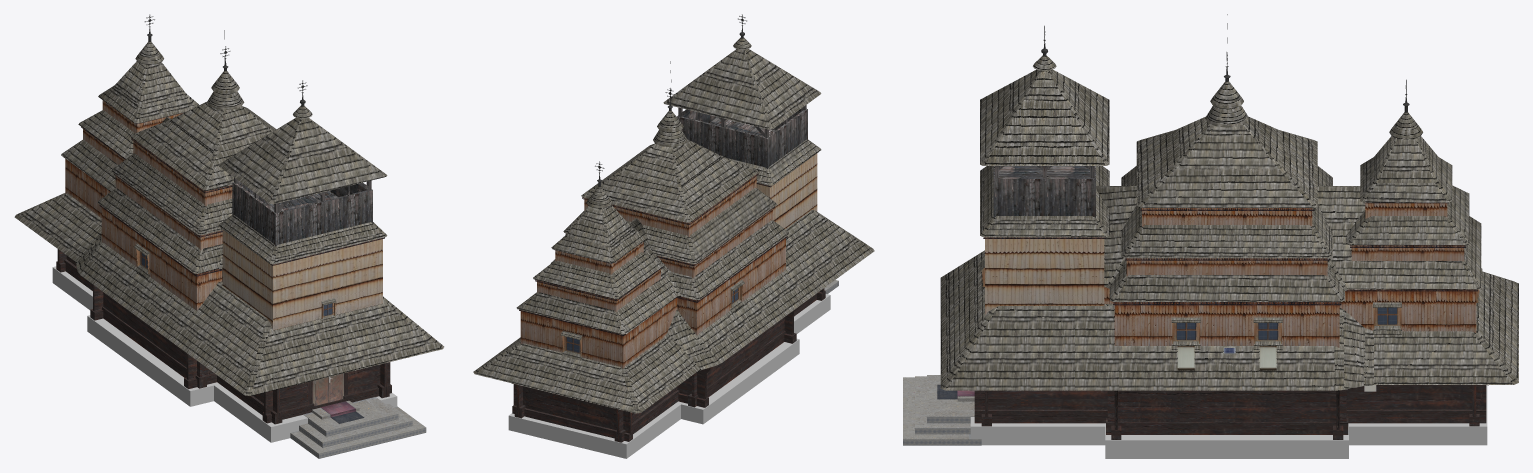
File: KostrinoChurch.FBX
3 views of the same model, side by side, from view 1: azimuth 30°, elevation 25°; view 2: azimuth 150°, elevation 25°; view 3: azimuth 270°, elevation 25° (orthographic). The views are drawn at different scales.
Visible parts, largest first — view 1: Roof1st, FrontBlock2nd, FrontRoof2nd, MiddleRoof2nd, FrontBlock3rd, Roof2nd, Box036, BackRoof2nd, MiddleRoof1st, MiddleBlock2nd, FrontRoof1st, BaseMiddleBlock (+15 smaller); view 2: Roof1st, MiddleRoof2nd, Roof2nd, FrontRoof2nd, BackBlock2nd, FrontBlock3rd, MiddleRoof1st, BackRoof2nd, BaseBackBlock, MiddleBlock2nd, BackRoof1st, BaseMiddleBlock (+13 smaller); view 3: Roof1st, Roof2nd, MiddleRoof2nd, FrontRoof2nd, FrontBlock2nd, MiddleRoof1st, MiddleBlock2nd, MiddleBlockGround, BaseMiddleBlock, BackRoof2nd, FrontBlock3rd, BackBlock2nd (+16 smaller).
Part boxes in pixels (box(x1,y1,x2,y2)): Roof1st: box(14, 193, 444, 395); FrontBlock2nd: box(222, 230, 382, 330); FrontRoof2nd: box(218, 117, 387, 204); MiddleRoof2nd: box(130, 102, 276, 190); FrontBlock3rd: box(232, 181, 372, 246); Roof2nd: box(61, 117, 222, 273); Box036: box(290, 397, 426, 458); BackRoof2nd: box(98, 61, 199, 123); MiddleRoof1st: box(111, 153, 232, 235); MiddleBlock2nd: box(101, 208, 221, 310); FrontRoof1st: box(218, 214, 387, 264); BaseMiddleBlock: box(87, 315, 218, 406); Roof1st: box(473, 210, 874, 413); MiddleRoof2nd: box(581, 139, 758, 222); Roof2nd: box(516, 155, 789, 334); FrontRoof2nd: box(663, 49, 821, 129); BackBlock2nd: box(520, 298, 677, 368); FrontBlock3rd: box(676, 108, 807, 169); MiddleRoof1st: box(563, 187, 776, 264); BackRoof2nd: box(551, 205, 647, 263); BaseBackBlock: box(508, 403, 680, 458); MiddleBlock2nd: box(677, 238, 785, 335); BackRoof1st: box(533, 252, 664, 299); BaseMiddleBlock: box(676, 338, 799, 424); Roof1st: box(940, 250, 1518, 390); Roof2nd: box(1096, 186, 1481, 301); MiddleRoof2nd: box(1136, 116, 1317, 207); FrontRoof2nd: box(980, 69, 1109, 165); FrontBlock2nd: box(985, 237, 1104, 314); MiddleRoof1st: box(1121, 166, 1332, 258); MiddleBlock2nd: box(1114, 302, 1339, 347); MiddleBlockGround: box(1118, 390, 1336, 421); BaseMiddleBlock: box(1105, 423, 1348, 458); BackRoof2nd: box(1360, 136, 1452, 202); FrontBlock3rd: box(993, 166, 1095, 217); BackBlock2nd: box(1339, 289, 1476, 332).
Bounding box in the file's own units: 800 × 1277 × 1805.
